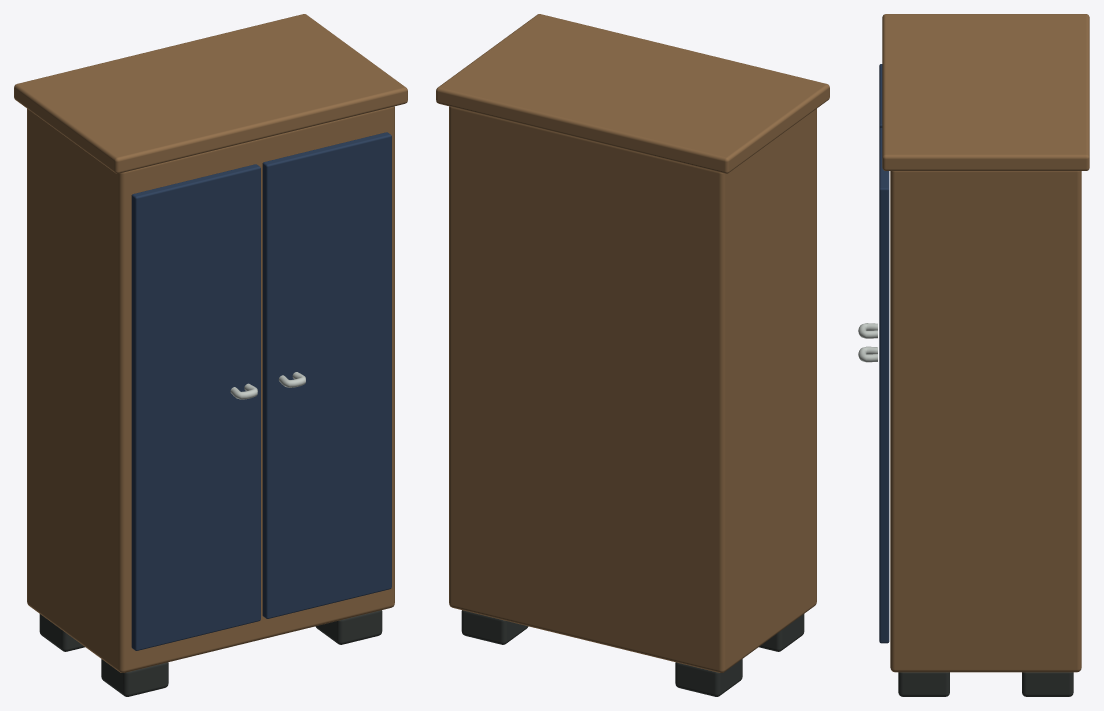
Rendered from planetarium-and-optical-observatory-instrument-storage-ad298eb1__31865.glb.
3 renders of one model, left to right at view 1: azimuth 30°, elevation 25°; view 2: azimuth 150°, elevation 25°; view 3: azimuth 270°, elevation 25°, orthographic.
Visible parts, largest first — view 1: instrument-storage-cabinet; view 2: instrument-storage-cabinet; view 3: instrument-storage-cabinet.
Part boxes in pixels (x1,y1,x2,y2): instrument-storage-cabinet: (14, 14, 407, 696); instrument-storage-cabinet: (436, 14, 829, 696); instrument-storage-cabinet: (858, 14, 1089, 696).
Size of the model in its own units: 0.85 by 1.53 by 0.5804.
